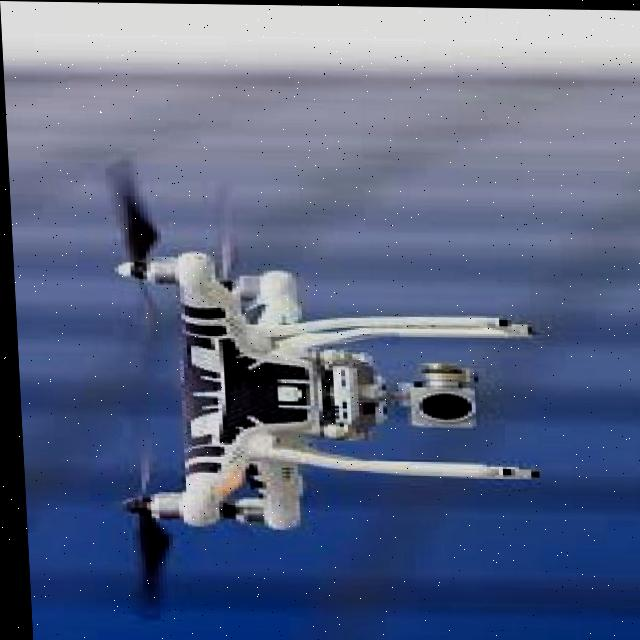drone: (74, 168, 549, 635)
